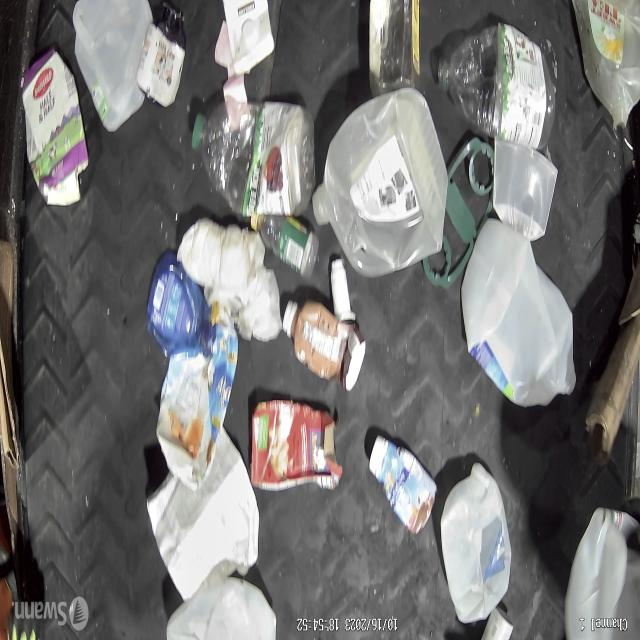milk_jug: (312, 86, 448, 276), (461, 217, 577, 409), (146, 423, 260, 600), (440, 461, 512, 623), (73, 0, 153, 135), (563, 508, 640, 640), (571, 0, 640, 127), (165, 574, 278, 640)
non_white_jug: (157, 306, 239, 489)
plastic_bottle: (192, 102, 314, 220), (437, 23, 555, 142), (369, 0, 419, 96), (250, 214, 320, 278)
